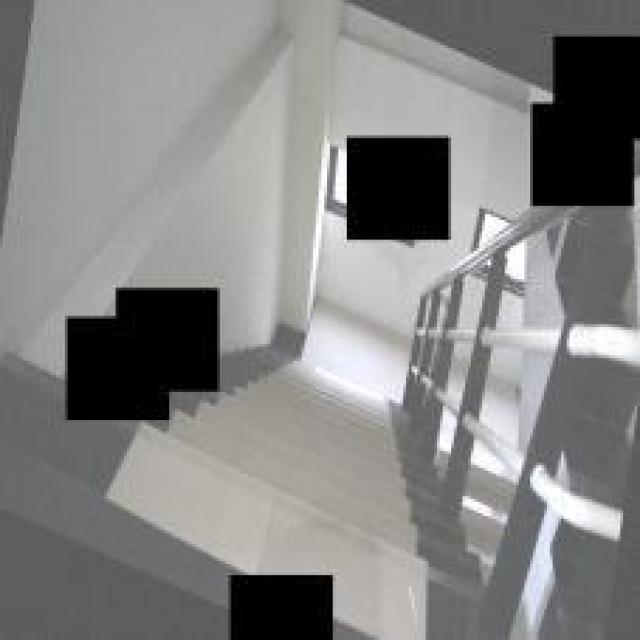downstair: (241, 323, 407, 574)
